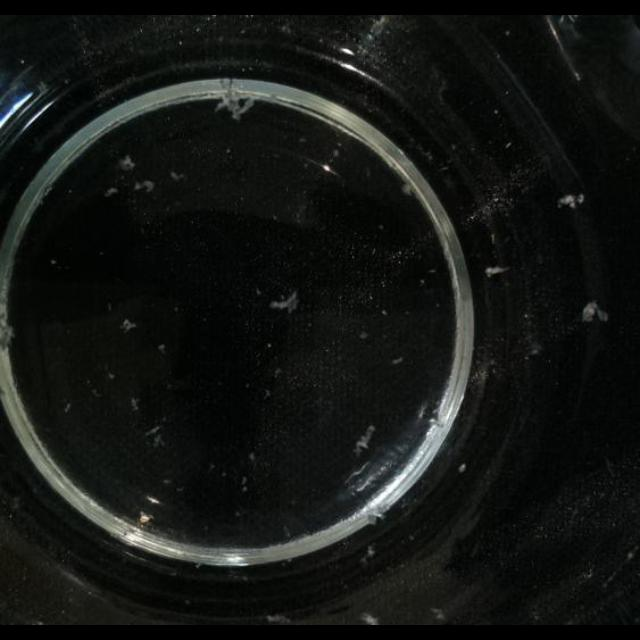Fibre: (269, 290, 299, 314), (354, 426, 376, 454), (146, 427, 166, 449), (484, 264, 510, 278), (132, 180, 156, 194), (118, 155, 136, 171), (266, 614, 292, 624), (359, 613, 378, 625), (431, 607, 447, 621), (402, 182, 416, 198), (169, 170, 185, 182), (130, 396, 140, 412)
Fragment: (212, 78, 260, 120)
microbeads: (582, 300, 610, 324), (556, 193, 584, 209), (120, 318, 138, 334), (104, 188, 118, 198), (458, 463, 467, 473)
